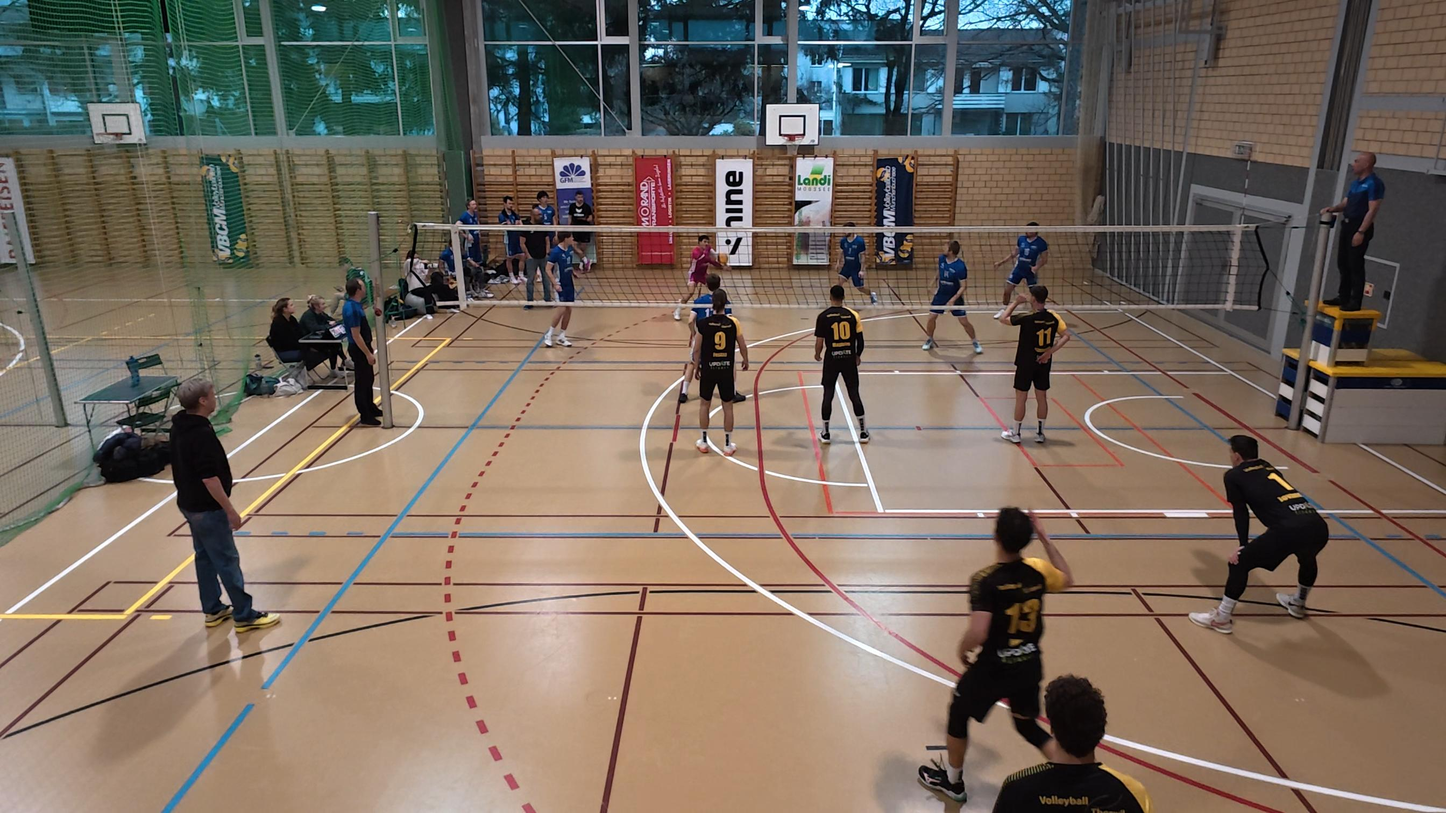Player: (918, 507, 1069, 803), (1190, 434, 1331, 634), (990, 675, 1150, 812), (998, 284, 1067, 444), (813, 285, 870, 444), (689, 298, 747, 453), (921, 238, 982, 356), (679, 271, 734, 401), (544, 233, 590, 348), (995, 221, 1048, 320), (833, 222, 877, 309)
Receive: (671, 234, 735, 322)
ball: (710, 247, 732, 271)
